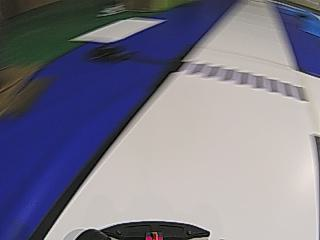CrossWalk: (173, 58, 312, 104)
